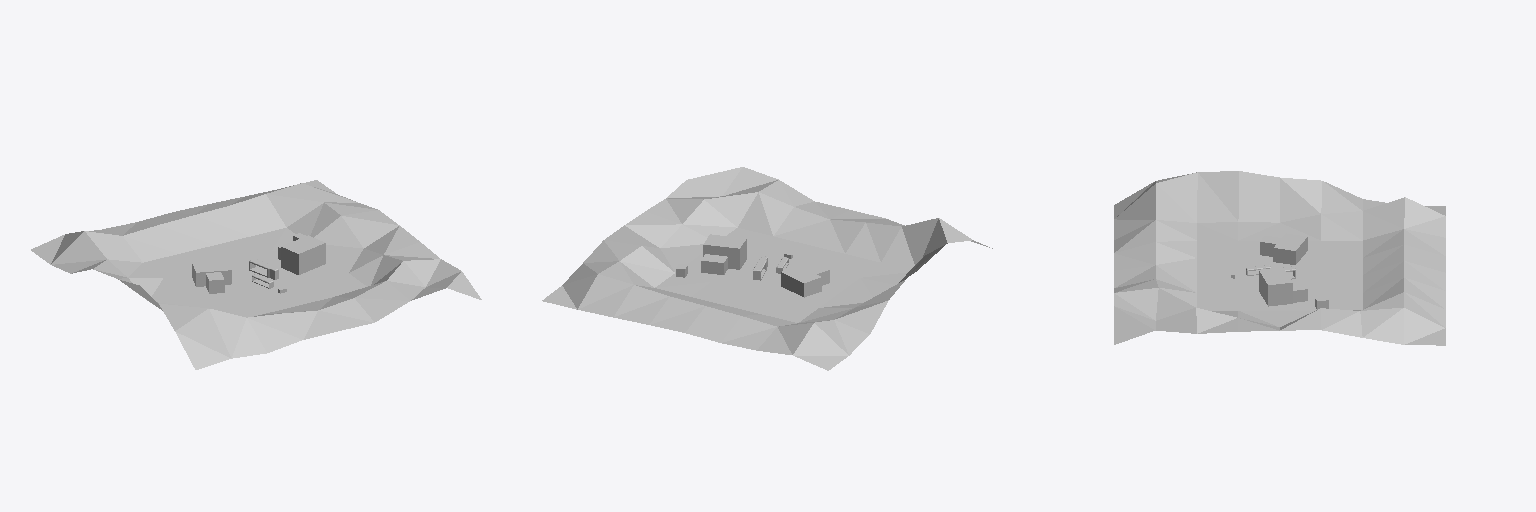
File: map.obj
3 views of the same model, side by side, from view 1: azimuth 30°, elevation 25°; view 2: azimuth 150°, elevation 25°; view 3: azimuth 270°, elevation 25° (orthographic).
Visible parts, largest first — view 1: Cube; view 2: Cube; view 3: Cube.
Boxes of the visible parts, x1,y1,x2,y2 form: Cube: [31, 180, 481, 369]; Cube: [542, 167, 992, 370]; Cube: [1114, 171, 1445, 345].
Size of the model in its own units: 15.25 by 1.98 by 15.24.